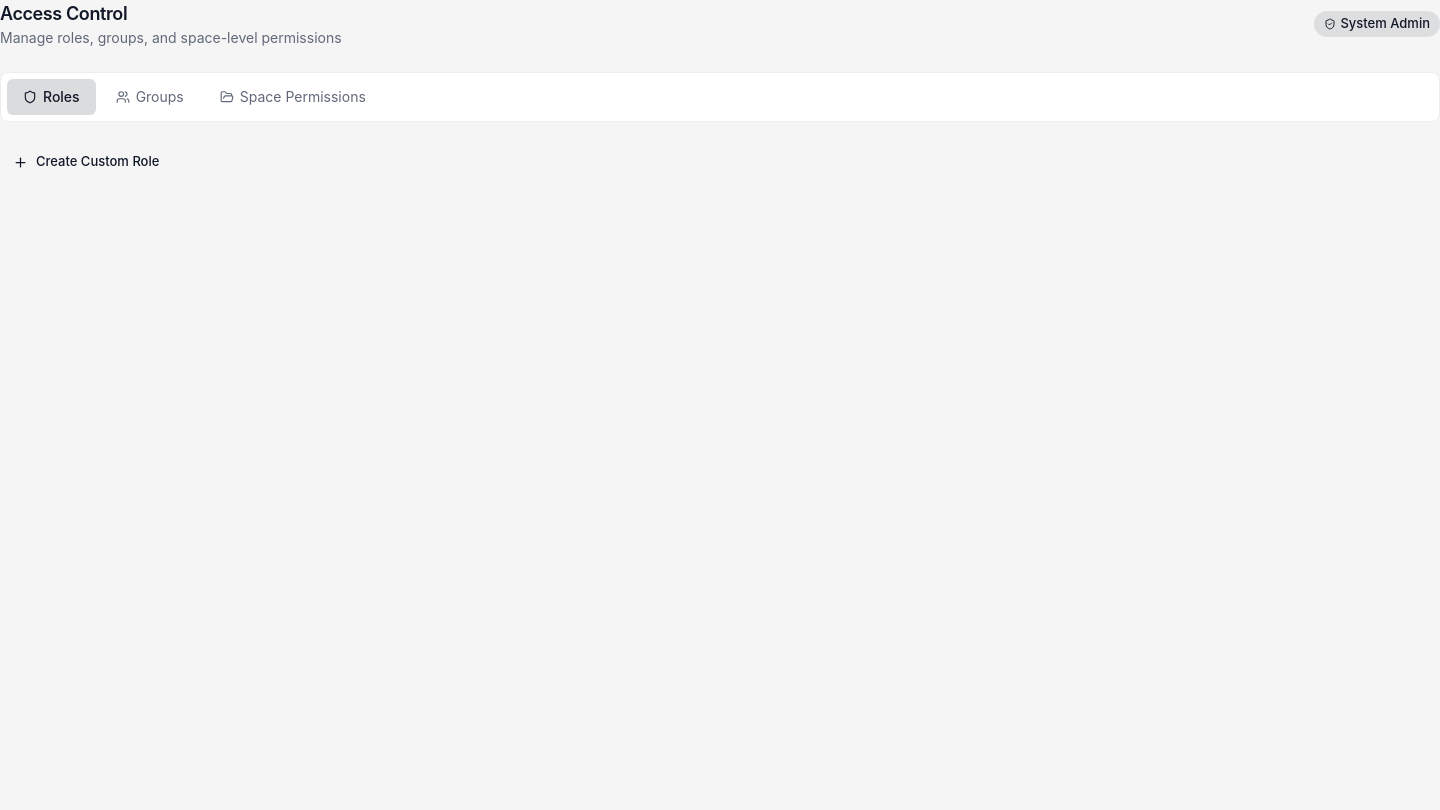
Test case: RbacPage › opens editor modal when "Create Custom Role" is clicked
Click the button with test id "create-custom-role-btn" at (86, 162), box [0,146,172,178]
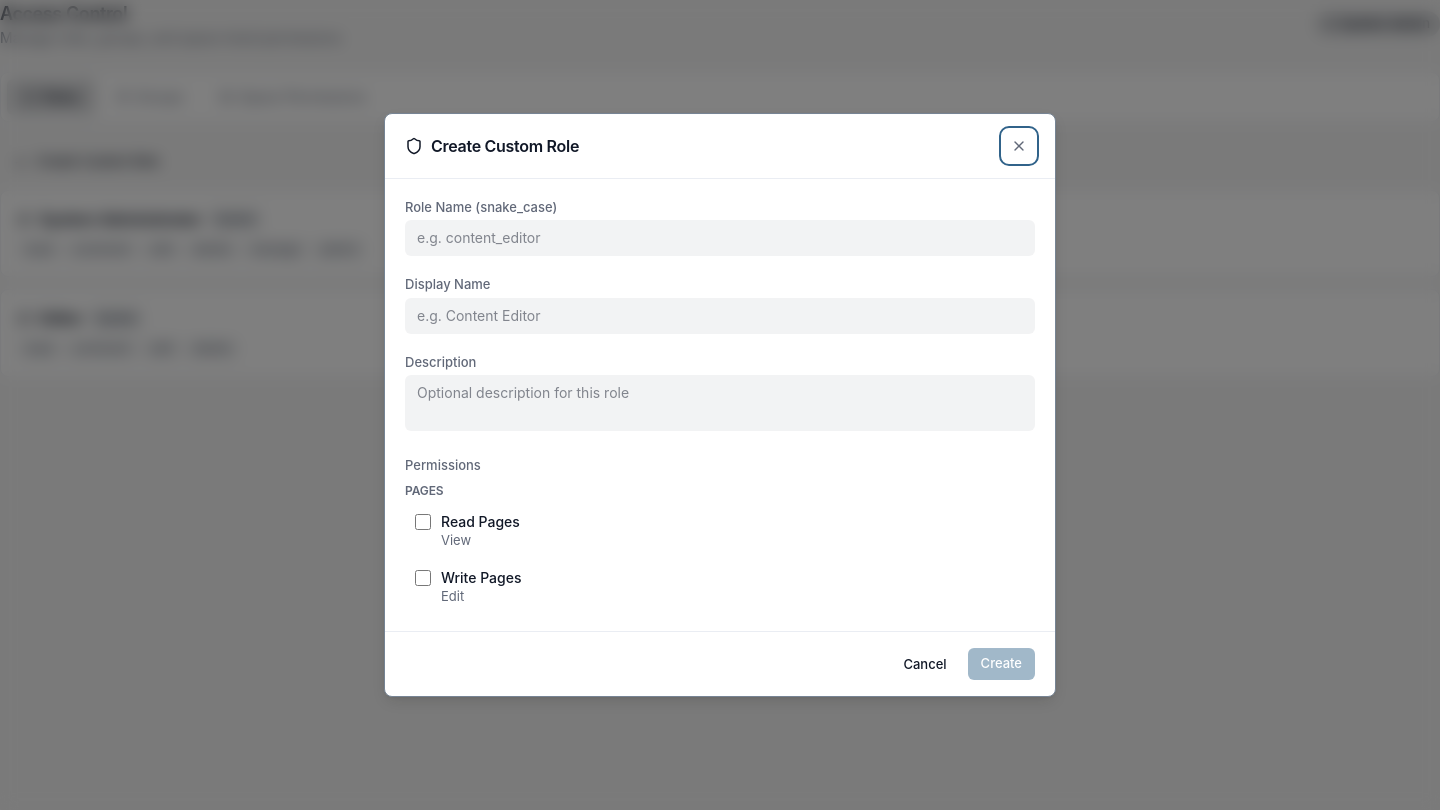
Expected: the dialog with test id "custom-role-editor" is shown, [384,113,1056,697]
Expected: the field with test id "role-name-input" is shown, [405,220,1035,256]
